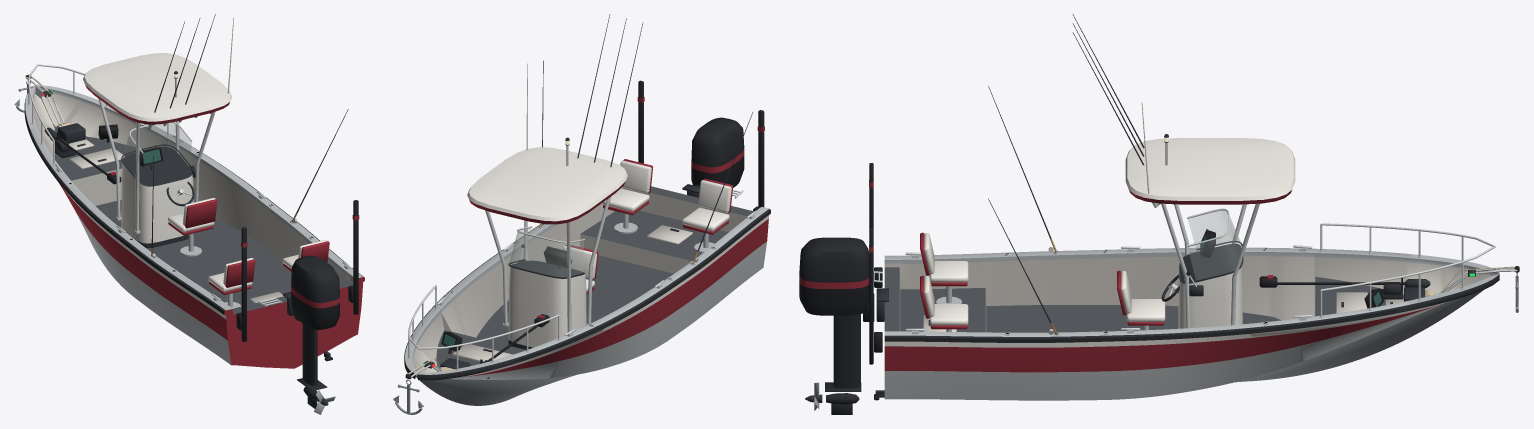
The model's file is northsilver.glb.
The picture shows the model from 3 angles, left to right: view 1: azimuth 30°, elevation 25°; view 2: azimuth 150°, elevation 25°; view 3: azimuth 270°, elevation 25°; orthographic projection. The views are drawn at different scales.
Visible parts, largest first — view 1: northsilver_body, motor, rods; view 2: northsilver_body, motor, rods; view 3: northsilver_body, motor, rods.
Boxes of the visible parts, x1,y1,x2,y2 form: northsilver_body: (24,17,364,368); motor: (291,256,339,408); rods: (148,14,348,257); northsilver_body: (404,63,770,405); motor: (691,117,744,187); rods: (541,14,752,263); northsilver_body: (869,102,1519,400); motor: (799,237,874,414); rods: (988,14,1144,334).
Size of the model in its own units: 3.05 by 4.81 by 8.2.
